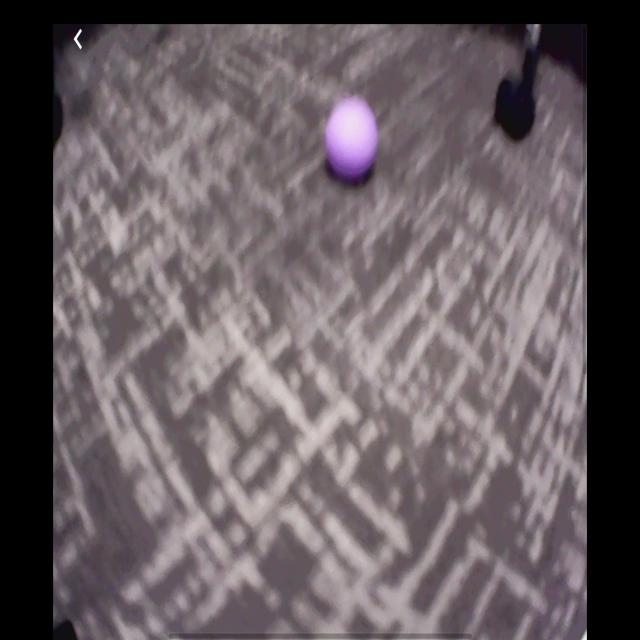ball: (323, 94, 380, 178)
